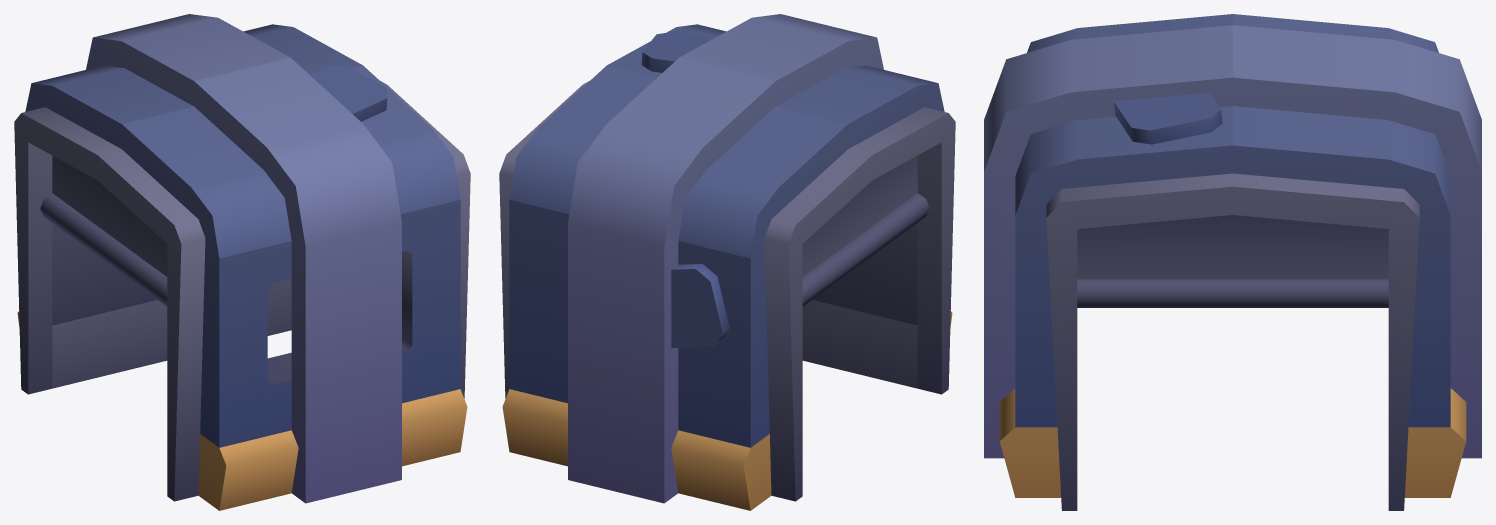
Rendered from machine-fortified.glb.
The picture shows the model from 3 angles, left to right: view 1: azimuth 30°, elevation 25°; view 2: azimuth 150°, elevation 25°; view 3: azimuth 270°, elevation 25°; orthographic projection. The views are drawn at different scales.
Parts seen in each view (by area): view 1: machine-fortified; view 2: machine-fortified; view 3: machine-fortified.
Part boxes in pixels (x1,y1,x2,y2): machine-fortified: [14, 14, 470, 510]; machine-fortified: [499, 14, 955, 510]; machine-fortified: [984, 14, 1481, 510].
Bounding box in the file's own units: 1.2 × 1.35 × 1.6.
